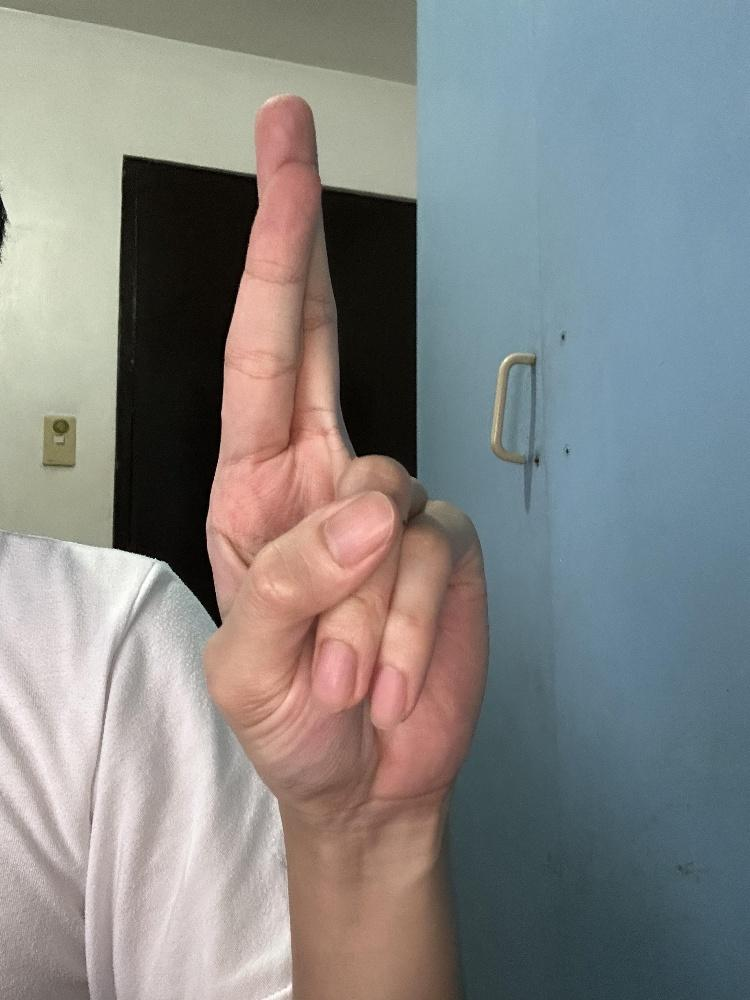r: (198, 88, 493, 839)
